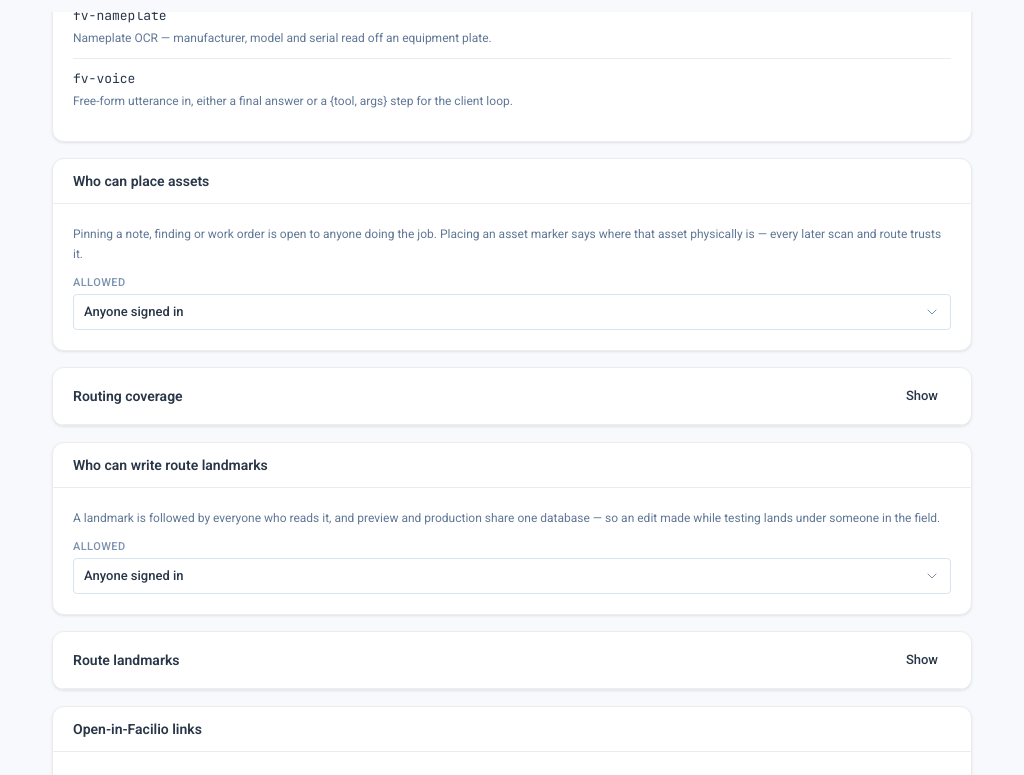
Test case: Settings — routing coverage › lists each site with whether it has coordinates at all
(page scrolled)
Click the button "Show" in the row of "Routing coverage" at coordinates (922, 396), box x1=893 y1=380 x2=951 y2=412
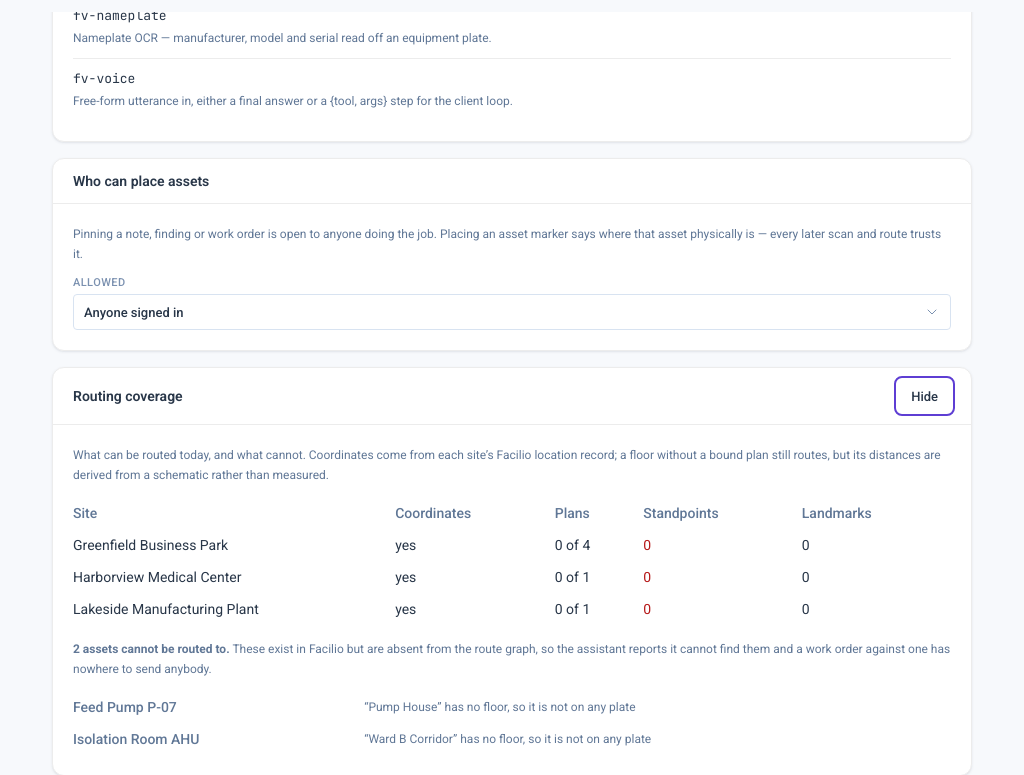
Expected: the text "Greenfield Business Park" is shown, x1=73 y1=529 x2=395 y2=561
Expected: the text "Lakeside Manufacturing Plant" is shown, x1=73 y1=593 x2=395 y2=625
